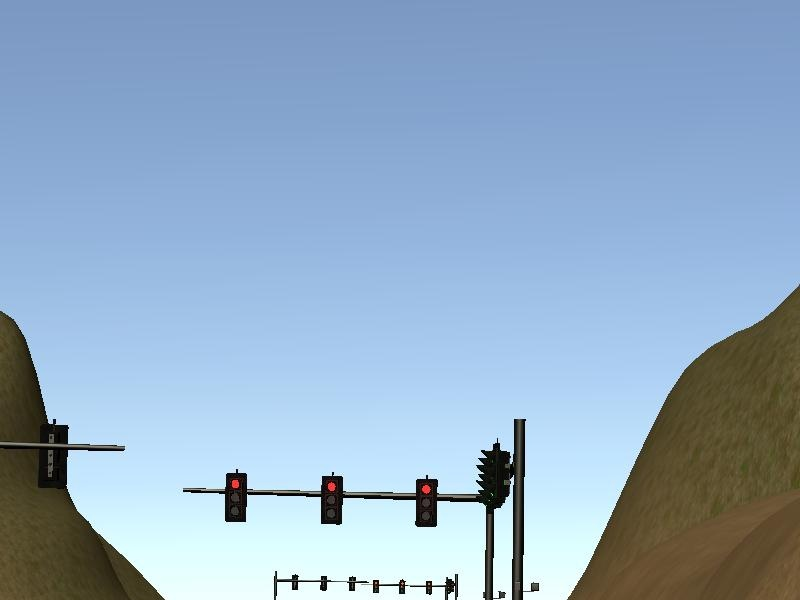red: (318, 474, 346, 528), (224, 470, 248, 525), (415, 477, 438, 527)
